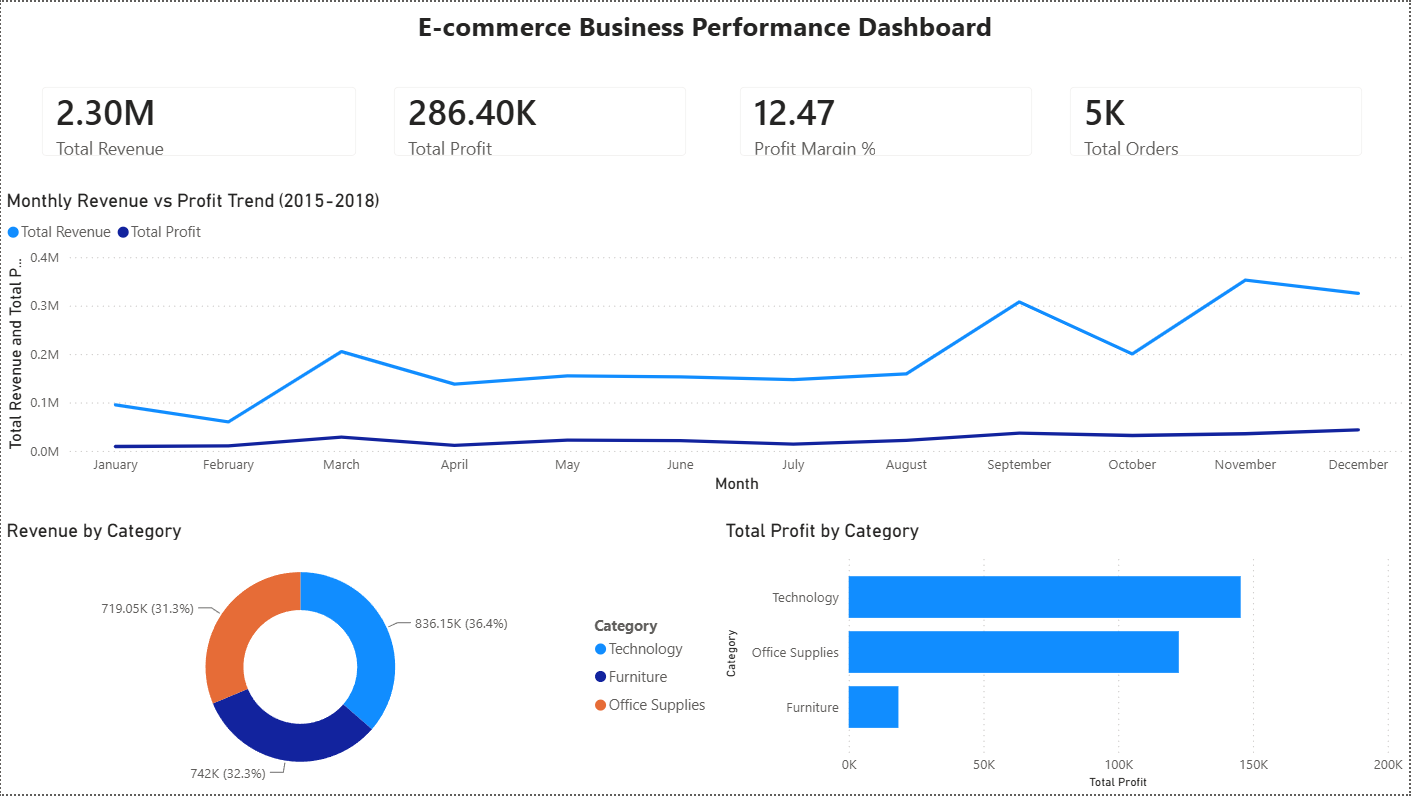

The dashboard page shown, as its layout file describes it:
{"tool":"powerbi","page":{"name":"Executive Overview","canvas":[1280,720],"ordinal":0},"visuals":[{"type":"cardVisual","fields":{"Data":["superstore.Total Revenue"]},"box":[20,60,320,97.1],"z":0},{"type":"cardVisual","fields":{"Data":["superstore.Total Profit"]},"box":[340,60,300,97.1],"z":1000},{"type":"cardVisual","fields":{"Data":["superstore.Profit Margin %"]},"box":[654.3,60,300,97.1],"z":2000},{"type":"cardVisual","fields":{"Data":["superstore.Total Orders"]},"box":[954.3,60,300,97.1],"z":3000},{"type":"lineChart","title":"Monthly Revenue vs Profit Trend (2015-2018)","fields":{"Category":["superstore.Order Date.Variation.Date Hierarchy.Month"],"Y":["superstore.Total Revenue","superstore.Total Profit"]},"box":[0,170,1280,281.4],"z":4000},{"type":"textbox","box":[0,0,1280,60],"z":5000},{"type":"donutChart","title":"Revenue by Category","fields":{"Category":["superstore.Category"],"Y":["superstore.Total Revenue"]},"box":[0,470,654.3,250],"z":6000},{"type":"clusteredBarChart","fields":{"Category":["superstore.Category"],"Y":["superstore.Total Profit"]},"box":[654,470,626,250],"z":7000}]}

Visuals, with their boxes in screenshot pixels (x1, y1, x2, y2), scaled from the page's 1280x720 canvas onto the 1411x798 screenshot:
cardVisual - superstore.Total Revenue: rect(22, 66, 375, 174)
cardVisual - superstore.Total Profit: rect(375, 66, 706, 174)
cardVisual - superstore.Profit Margin %: rect(721, 66, 1052, 174)
cardVisual - superstore.Total Orders: rect(1052, 66, 1383, 174)
"Monthly Revenue vs Profit Trend (2015-2018)" lineChart: rect(0, 188, 1410, 500)
textbox: rect(0, 0, 1410, 66)
"Revenue by Category" donutChart: rect(0, 521, 721, 797)
clusteredBarChart - superstore.Category x superstore.Total Profit: rect(721, 521, 1410, 797)
